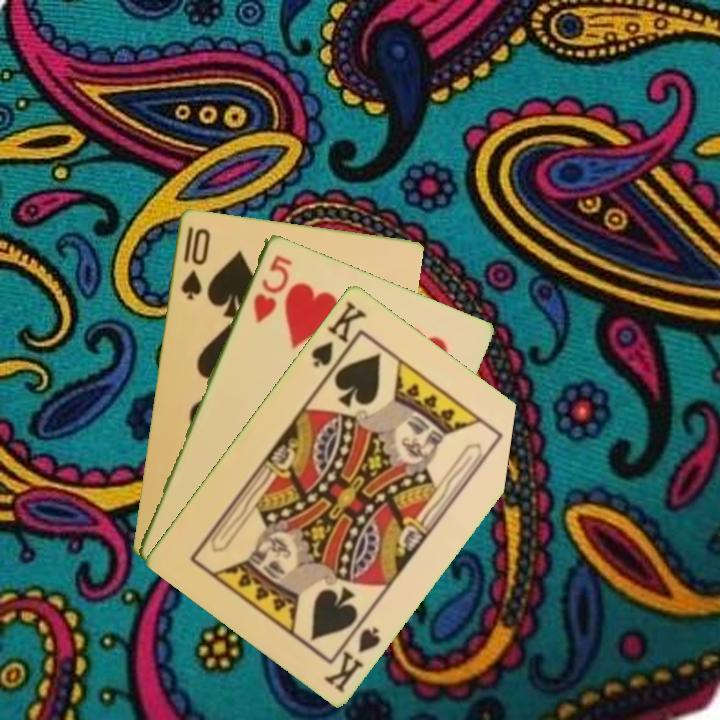10s: (177, 222, 213, 302)
5h: (249, 250, 295, 326)
Ks: (320, 613, 384, 695), (307, 296, 370, 378)
